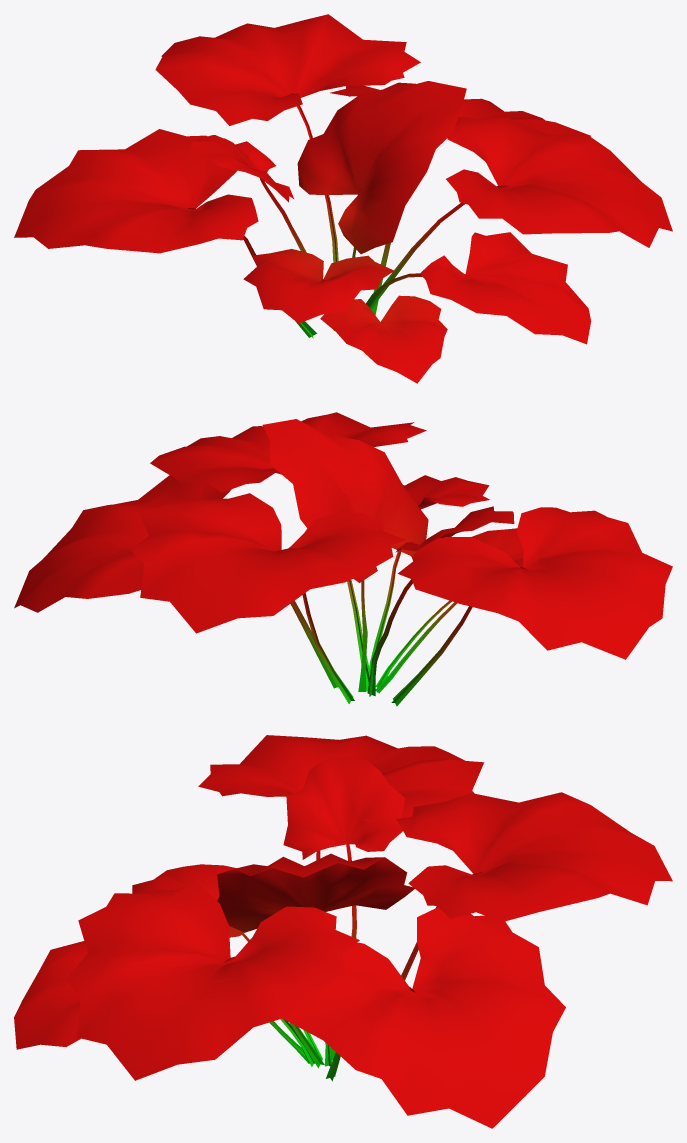
File: Coltsfoot_LOD2_Var9_xbtkdfvqx.fbx
3 views of the same model, one above another, from view 1: azimuth 30°, elevation 25°; view 2: azimuth 150°, elevation 25°; view 3: azimuth 270°, elevation 25° (orthographic). The views are drawn at different scales.
Visible parts, largest first — view 1: _ts7l_Var9_LOD2; view 2: _ts7l_Var9_LOD2; view 3: _ts7l_Var9_LOD2.
Part boxes in pixels (x1,y1,x2,y2): _ts7l_Var9_LOD2: (14,14,672,383); _ts7l_Var9_LOD2: (14,412,672,706); _ts7l_Var9_LOD2: (14,735,672,1128).
Size of the model in its own units: 67.25 by 25.75 by 61.02.
